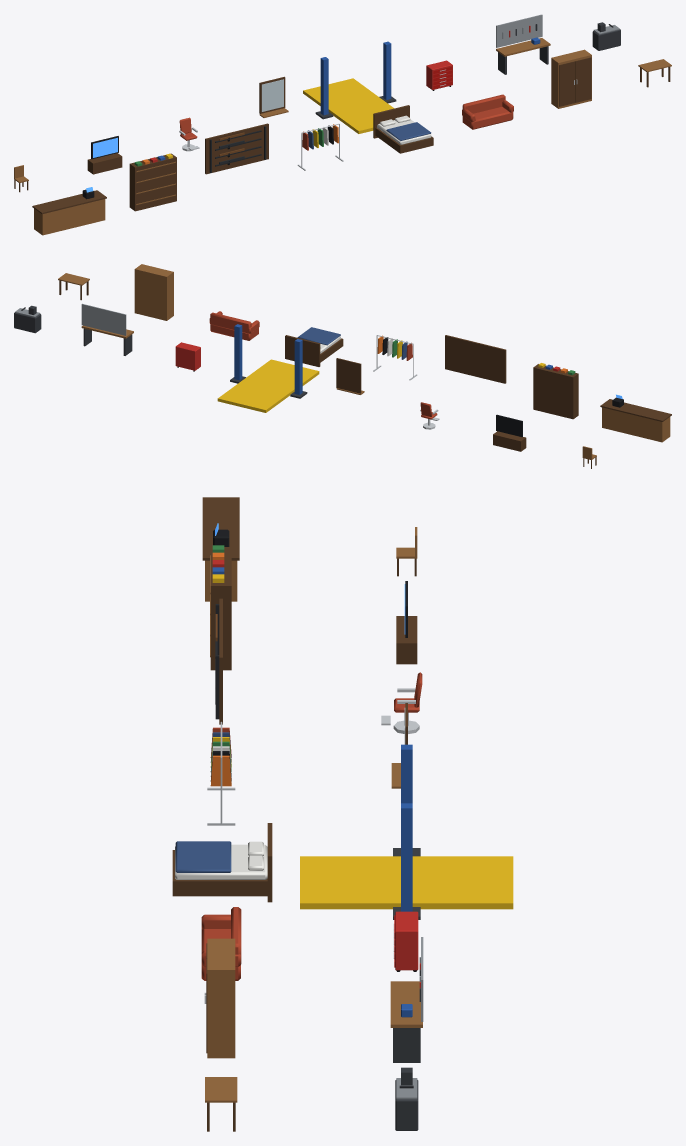
The model's file is kit_interiors.glb.
3 renders of one model, top to bottom at view 1: azimuth 30°, elevation 25°; view 2: azimuth 150°, elevation 25°; view 3: azimuth 270°, elevation 25°, orthographic. The views are drawn at different scales.
Parts seen in each view (by area): view 1: int_car_lift, int_shelf, int_gun_rack, int_counter, int_wardrobe, int_bed, int_workbench, int_sofa, int_tv, int_mirror, int_clothes_rack, int_tool_chest (+3 smaller); view 2: int_car_lift, int_shelf, int_gun_rack, int_counter, int_wardrobe, int_workbench, int_bed, int_tv, int_sofa, int_mirror, int_clothes_rack, int_tool_chest (+3 smaller); view 3: int_car_lift, int_bed, int_wardrobe, int_workbench, int_counter, int_shelf, int_sofa, int_clothes_rack, int_tool_chest, int_gunsmith_bench, int_tv, int_table (+2 smaller).
Boxes of the visible parts, left/top/right/bottom form: int_car_lift: left=303, top=41, right=396, bottom=133; int_shelf: left=129, top=153, right=176, bottom=211; int_gun_rack: left=205, top=123, right=268, bottom=174; int_counter: left=32, top=187, right=106, bottom=235; int_wardrobe: left=551, top=49, right=591, bottom=108; int_bed: left=373, top=105, right=433, bottom=153; int_workbench: left=496, top=14, right=550, bottom=74; int_sofa: left=462, top=94, right=513, bottom=129; int_tv: left=87, top=136, right=122, bottom=174; int_mirror: left=259, top=76, right=288, bottom=117; int_clothes_rack: left=297, top=123, right=343, bottom=170; int_tool_chest: left=426, top=60, right=452, bottom=90; int_car_lift: left=217, top=324, right=319, bottom=412; int_shelf: left=533, top=363, right=578, bottom=419; int_gun_rack: left=445, top=335, right=506, bottom=383; int_counter: left=600, top=394, right=671, bottom=442; int_wardrobe: left=134, top=264, right=173, bottom=320; int_workbench: left=81, top=303, right=133, bottom=355; int_bed: left=285, top=327, right=343, bottom=366; int_tv: left=493, top=414, right=526, bottom=451; int_sofa: left=209, top=311, right=259, bottom=340; int_mirror: left=336, top=358, right=364, bottom=394; int_clothes_rack: left=373, top=335, right=417, bottom=380; int_tool_chest: left=175, top=342, right=200, bottom=371; int_car_lift: left=300, top=744, right=513, bottom=919; int_bed: left=172, top=823, right=272, bottom=902; int_wardrobe: left=204, top=938, right=235, bottom=1058; int_workbench: left=390, top=937, right=423, bottom=1062; int_counter: left=202, top=497, right=239, bottom=601; int_shelf: left=210, top=545, right=231, bottom=670; int_sofa: left=201, top=907, right=241, bottom=980; int_clothes_rack: left=207, top=721, right=235, bottom=825; int_tool_chest: left=393, top=911, right=418, bottom=971; int_gunsmith_bench: left=395, top=1067, right=418, bottom=1130; int_tv: left=396, top=581, right=417, bottom=664; int_table: left=205, top=1077, right=237, bottom=1131.
Size of the model in its own units: 30.15 by 2.6 by 7.35.
